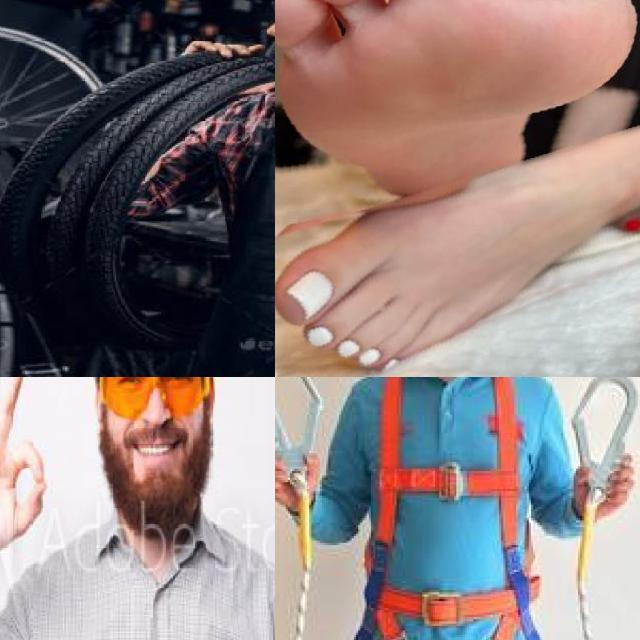Barefoots: (275, 118, 640, 376), (275, 0, 640, 193)
Harness: (371, 377, 558, 640)
face_nomask: (102, 377, 203, 475)
glasses: (93, 377, 213, 418)
hand_noglove: (0, 377, 49, 554)
person: (0, 377, 275, 640), (192, 0, 275, 377)
